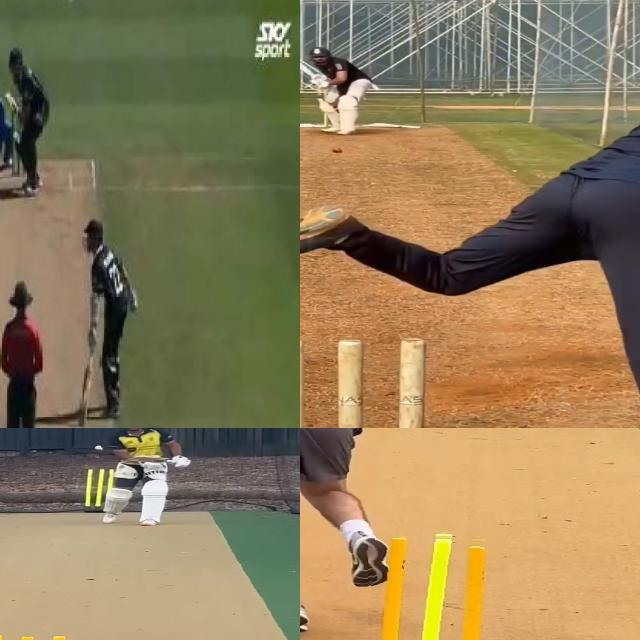Cricket ball: (93, 445, 105, 451), (332, 147, 343, 153)
Stumps: (368, 531, 509, 640), (300, 337, 427, 428), (84, 469, 116, 512)
